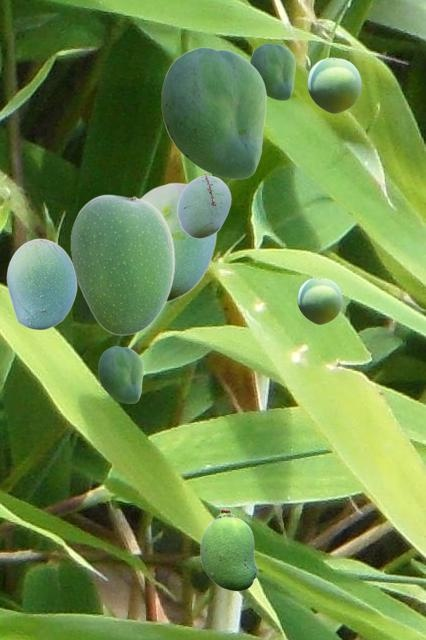green_mango: (70, 194, 174, 334), (161, 47, 265, 178), (140, 182, 216, 301), (6, 238, 76, 329), (200, 509, 257, 590), (177, 172, 230, 237), (307, 57, 360, 112), (98, 346, 142, 402), (250, 43, 294, 99), (297, 277, 341, 323)
